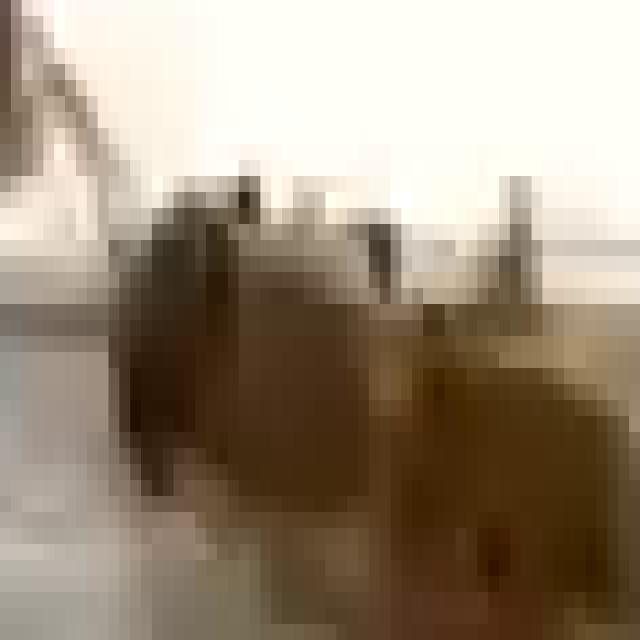honeybee: (102, 151, 573, 569)
